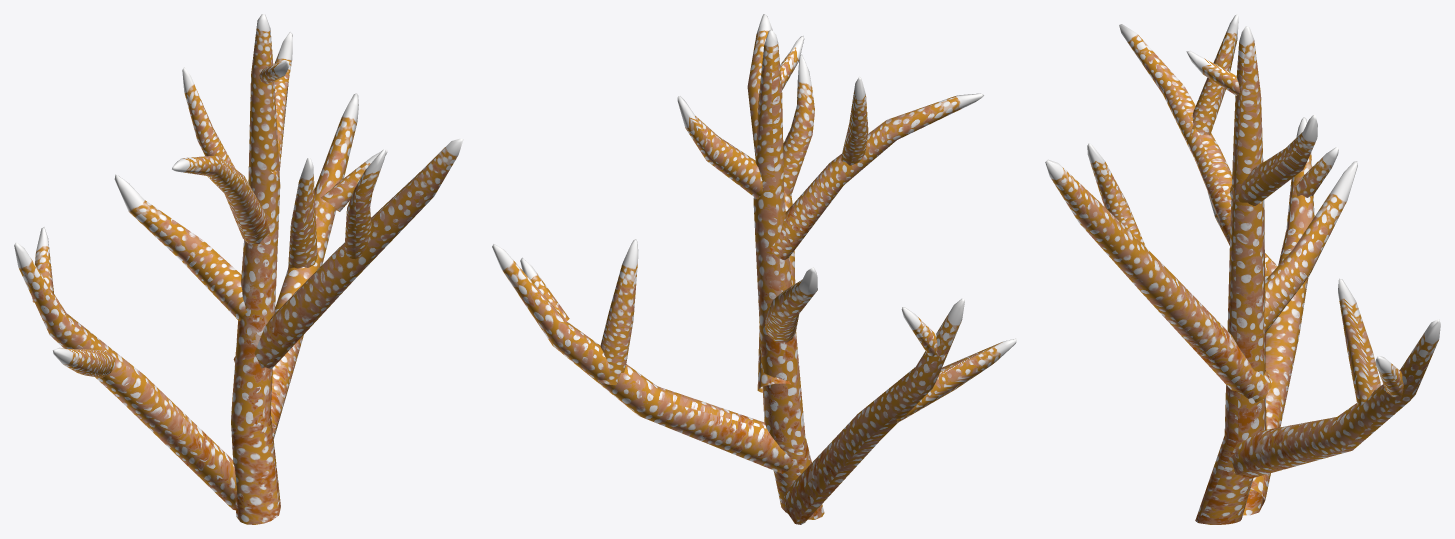
File: StaghornCoral00b.fbx
The picture shows the model from 3 angles, left to right: view 1: azimuth 30°, elevation 25°; view 2: azimuth 150°, elevation 25°; view 3: azimuth 270°, elevation 25°; orthographic projection. The views are drawn at different scales.
Parts seen in each view (by area): view 1: Staghorn00b; view 2: Staghorn00b; view 3: Staghorn00b.
Boxes of the visible parts, <box> form: Staghorn00b: <box>14,14,463,524</box>; Staghorn00b: <box>492,14,1016,524</box>; Staghorn00b: <box>1045,14,1440,524</box>.
Size of the model in its own units: 0.776 by 0.8744 by 0.6174.
